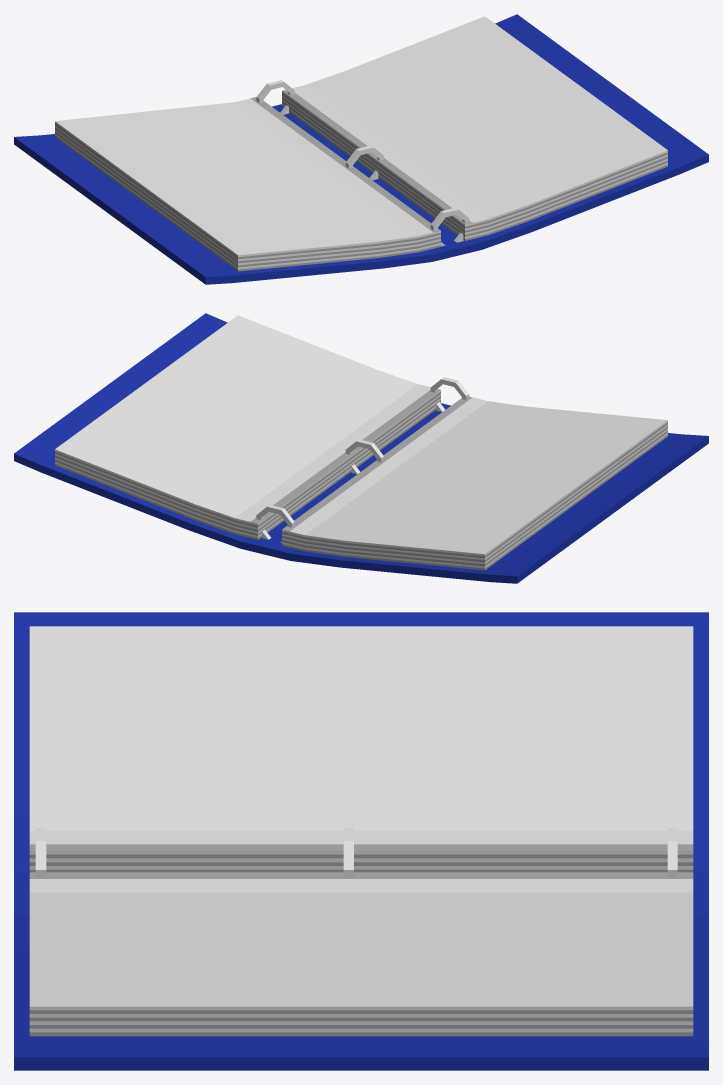
The model's file is Carpeta.fbx.
3 renders of one model, top to bottom at view 1: azimuth 30°, elevation 25°; view 2: azimuth 150°, elevation 25°; view 3: azimuth 270°, elevation 25°, orthographic. The views are drawn at different scales.
Visible parts, largest first — view 1: Cube, Cylinder; view 2: Cube, Cylinder; view 3: Cube, Cylinder.
Part boxes in pixels (x1,y1,x2,y2): Cube: (14,14,708,284); Cylinder: (256,80,469,246); Cube: (14,313,708,583); Cylinder: (256,377,469,542); Cube: (14,612,708,1070); Cylinder: (35,828,677,877).
Size of the model in its own units: 252 by 23.87 by 166.
